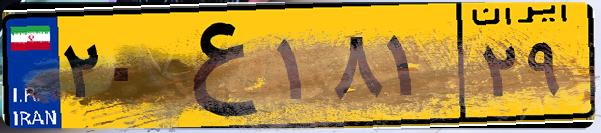0: (110, 28, 158, 98)
1: (270, 28, 330, 110), (385, 28, 445, 110)
2: (57, 26, 110, 100), (475, 38, 525, 113)
8: (330, 28, 385, 110)
9: (525, 38, 570, 115)
ع: (158, 12, 270, 120)
